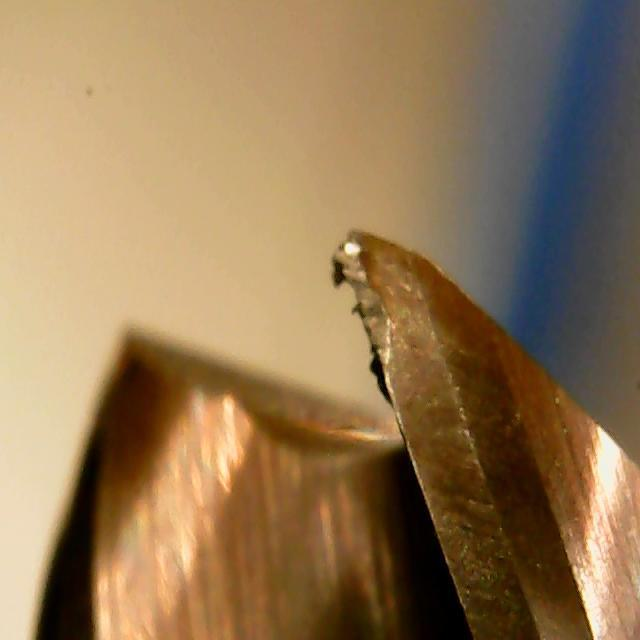Tool-wear-class-1: (337, 202, 472, 485)
